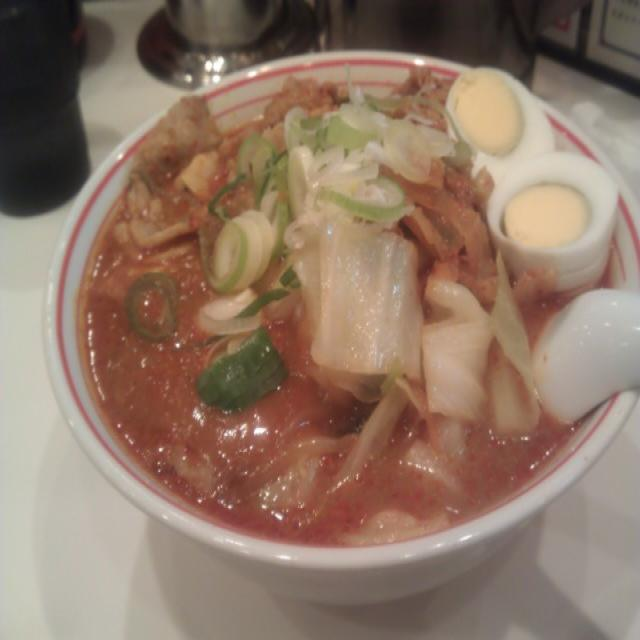面条主食: (40, 37, 640, 619)
